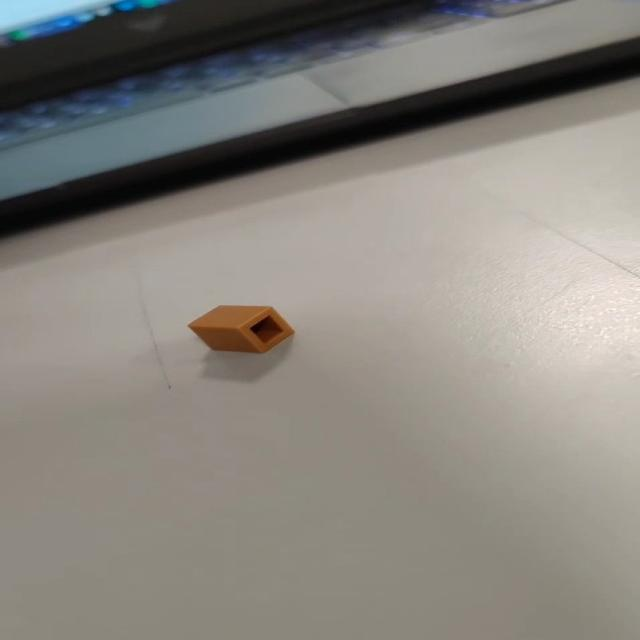C1x1x1: (186, 304, 294, 354)
